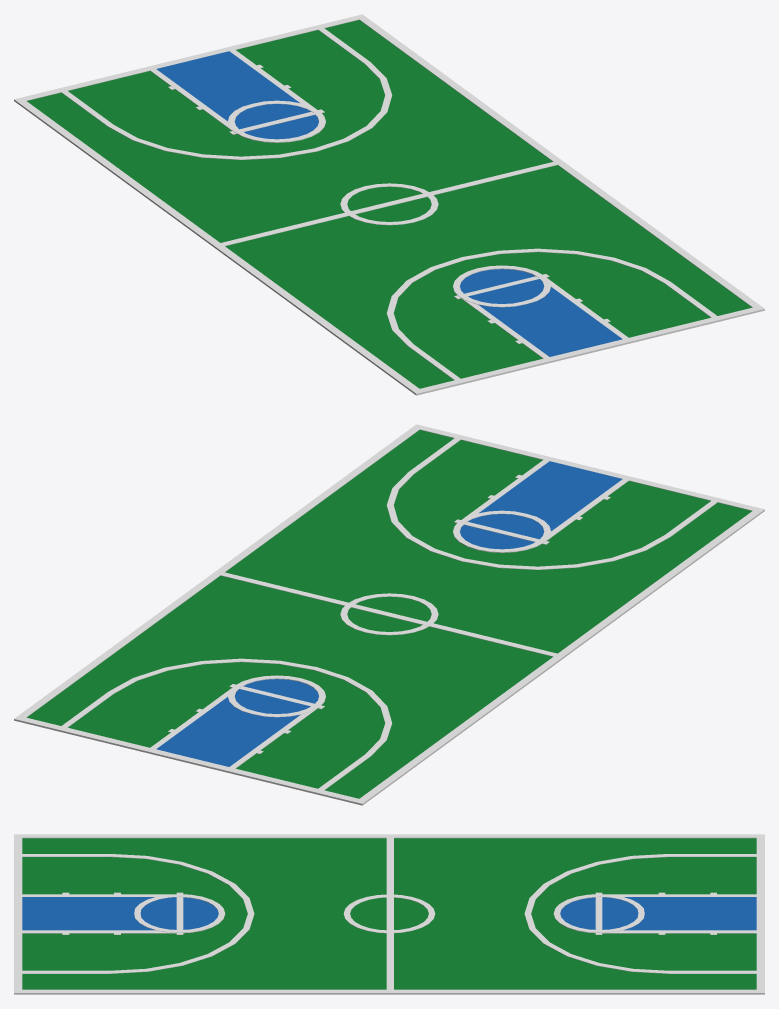
Rendered from Basketball_Court_6.fbx.
3 views of the same model, one above another, from view 1: azimuth 30°, elevation 25°; view 2: azimuth 150°, elevation 25°; view 3: azimuth 270°, elevation 25° (orthographic). The views are drawn at different scales.
Parts seen in each view (by area): view 1: Basketball_Court_6; view 2: Basketball_Court_6; view 3: Basketball_Court_6.
Boxes of the visible parts, bbox=[...] form: Basketball_Court_6: bbox=[14, 14, 764, 395]; Basketball_Court_6: bbox=[14, 424, 764, 805]; Basketball_Court_6: bbox=[14, 834, 764, 994].
Bounding box in the file's own units: 800 × 4.45 × 1600.
